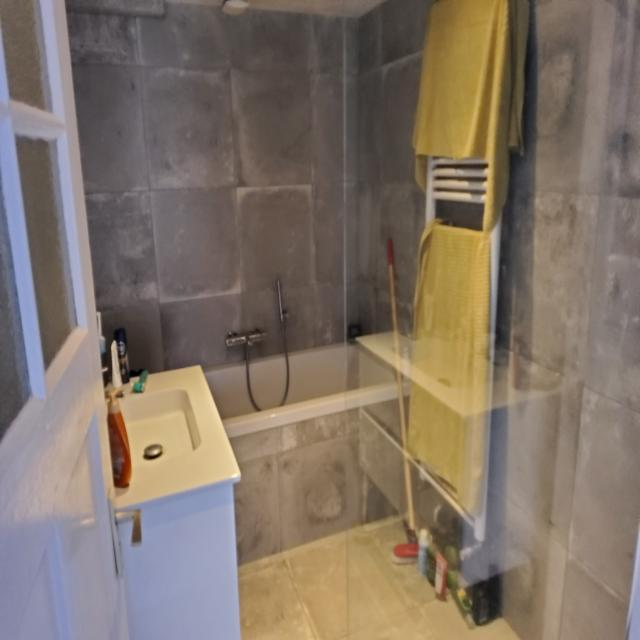designradiator: (405, 0, 532, 546)
wastafel: (356, 338, 569, 587), (100, 360, 240, 512)
